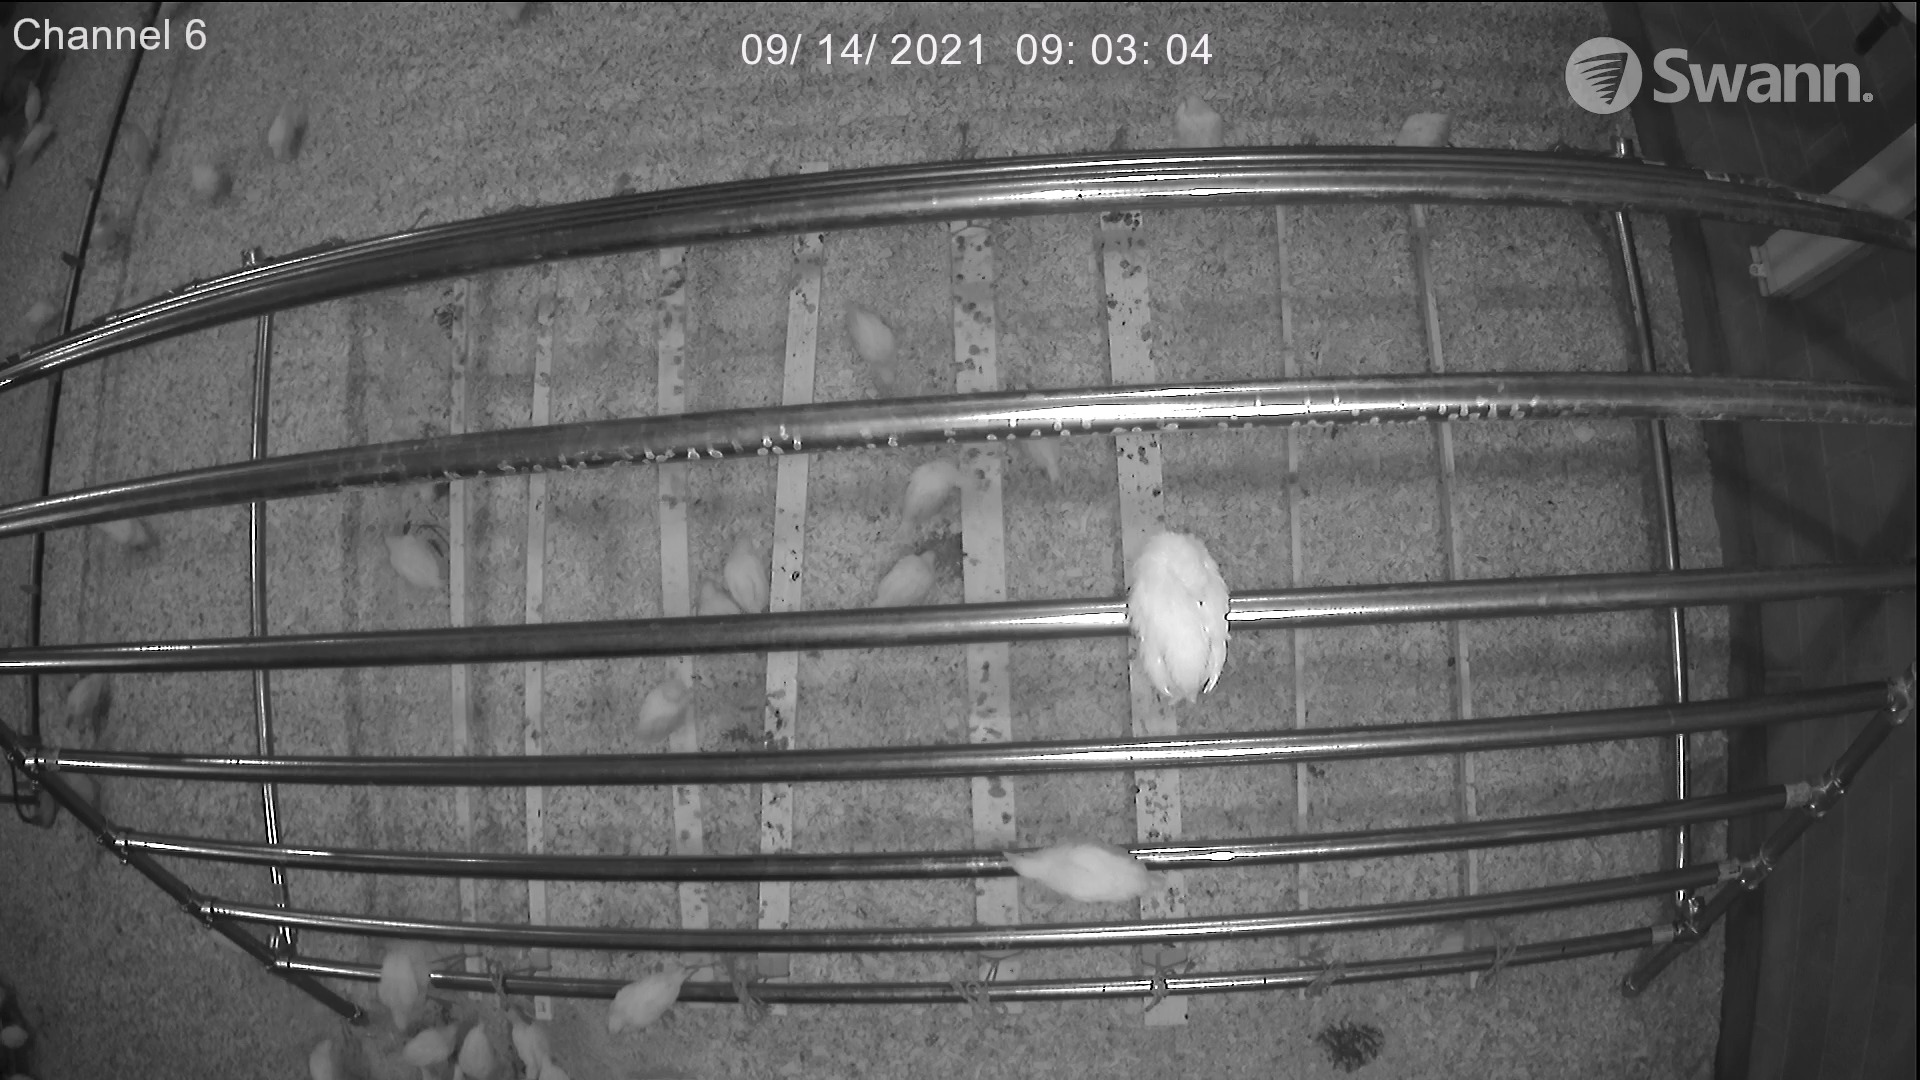Perching: (1033, 491, 1338, 775), (986, 818, 1171, 918), (599, 963, 720, 1048), (351, 935, 446, 1039)
